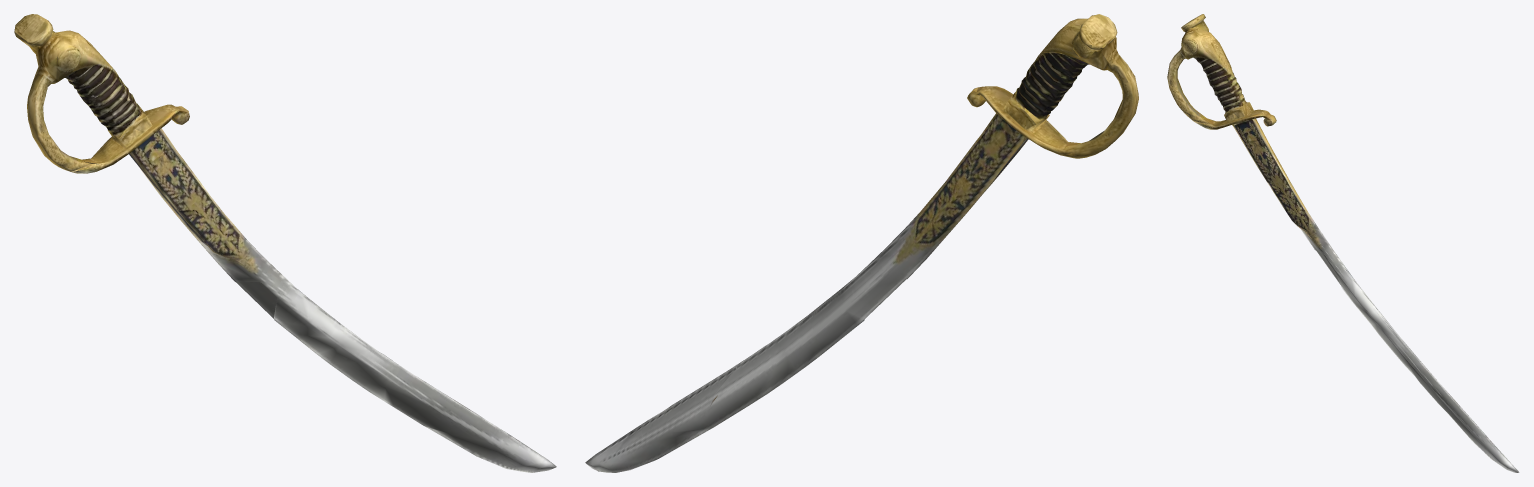
3 views of the same model, side by side, from view 1: azimuth 30°, elevation 25°; view 2: azimuth 150°, elevation 25°; view 3: azimuth 330°, elevation 25° (orthographic). The views are drawn at different scales.
Visible parts, largest first — view 1: Mesh_0.001; view 2: Mesh_0.001; view 3: Mesh_0.001.
Boxes of the visible parts, bbox=[...] form: Mesh_0.001: bbox=[14, 14, 556, 472]; Mesh_0.001: bbox=[585, 14, 1138, 472]; Mesh_0.001: bbox=[1167, 14, 1519, 472].
Size of the model in its own units: 0.8843 by 0.9 by 0.1059.
Materials: 1 (1 with a texture image).
